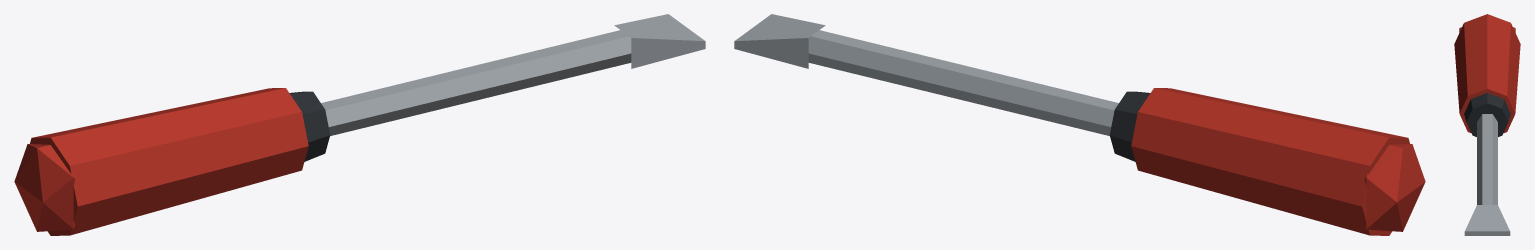
Rendered from screwdriver-284fac.glb.
The picture shows the model from 3 angles, left to right: view 1: azimuth 30°, elevation 25°; view 2: azimuth 150°, elevation 25°; view 3: azimuth 270°, elevation 25°; orthographic projection. The views are drawn at different scales.
Bounding box in the file's own units: 0.2659 × 0.038 × 0.038.
